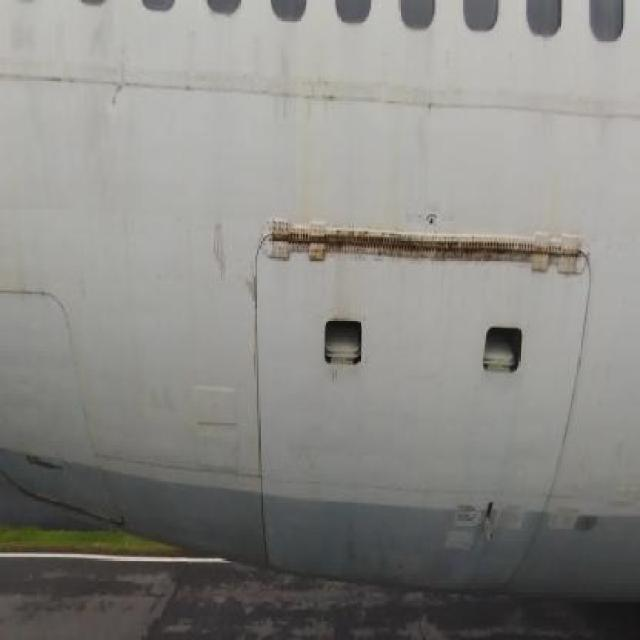Rust: (263, 216, 600, 293), (295, 121, 323, 217), (209, 220, 231, 286)
Scartch: (247, 264, 259, 350)
